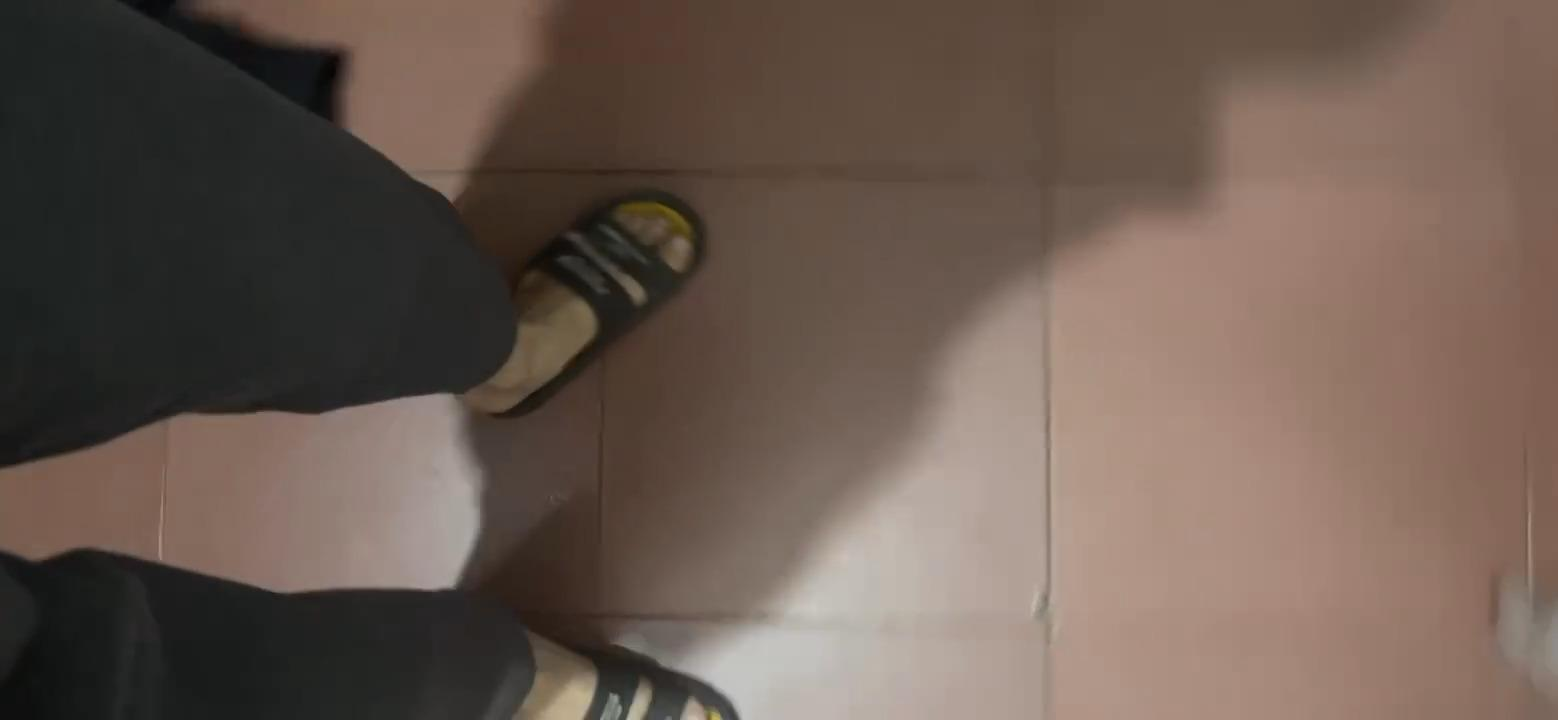no-boot: (467, 171, 728, 411), (479, 601, 727, 720)
